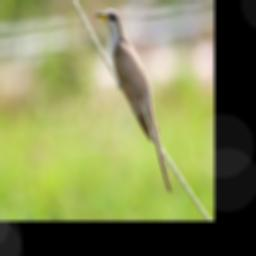Cuckoo: (94, 7, 174, 198)
